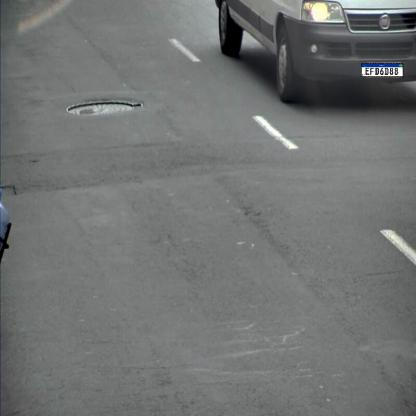PlacaM: (361, 63, 403, 77)
